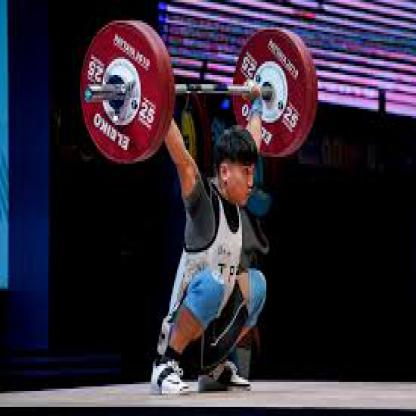Barbell: (77, 16, 176, 169)
